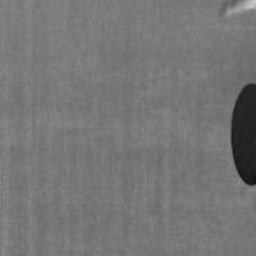Punching: (229, 82, 256, 186)
